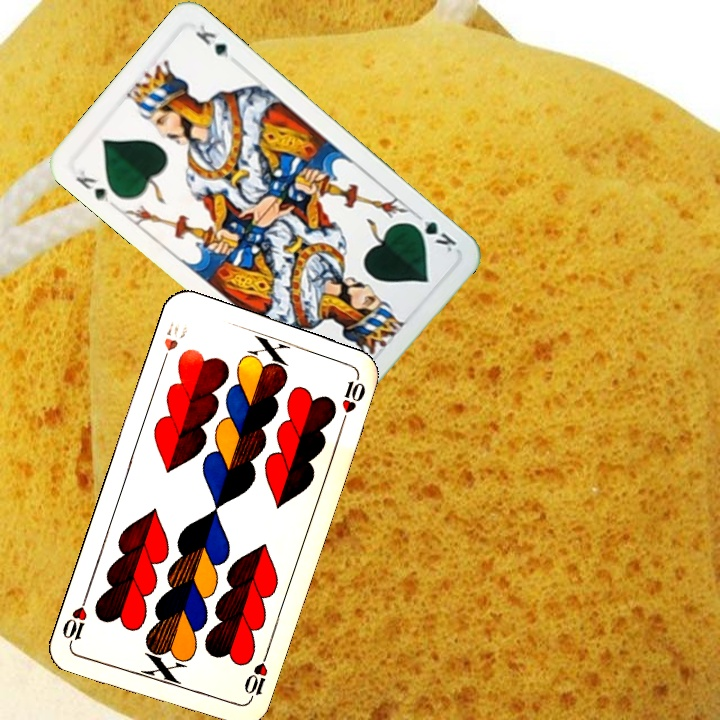GK: (406, 209, 459, 256), (71, 165, 112, 205)
H10: (240, 648, 271, 705), (157, 317, 190, 370)
